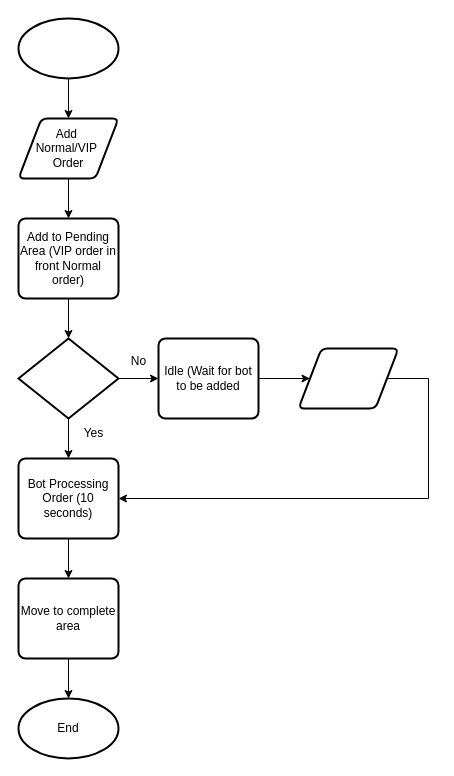
This 454x776 diagram has some shape labels left out. The box of each missing label's shape, as (x1, y1, x2, y2) in pixels:
Add Bot: (297, 347, 399, 409)
Bot Available?: (17, 337, 119, 419)
Start: (17, 17, 119, 79)
